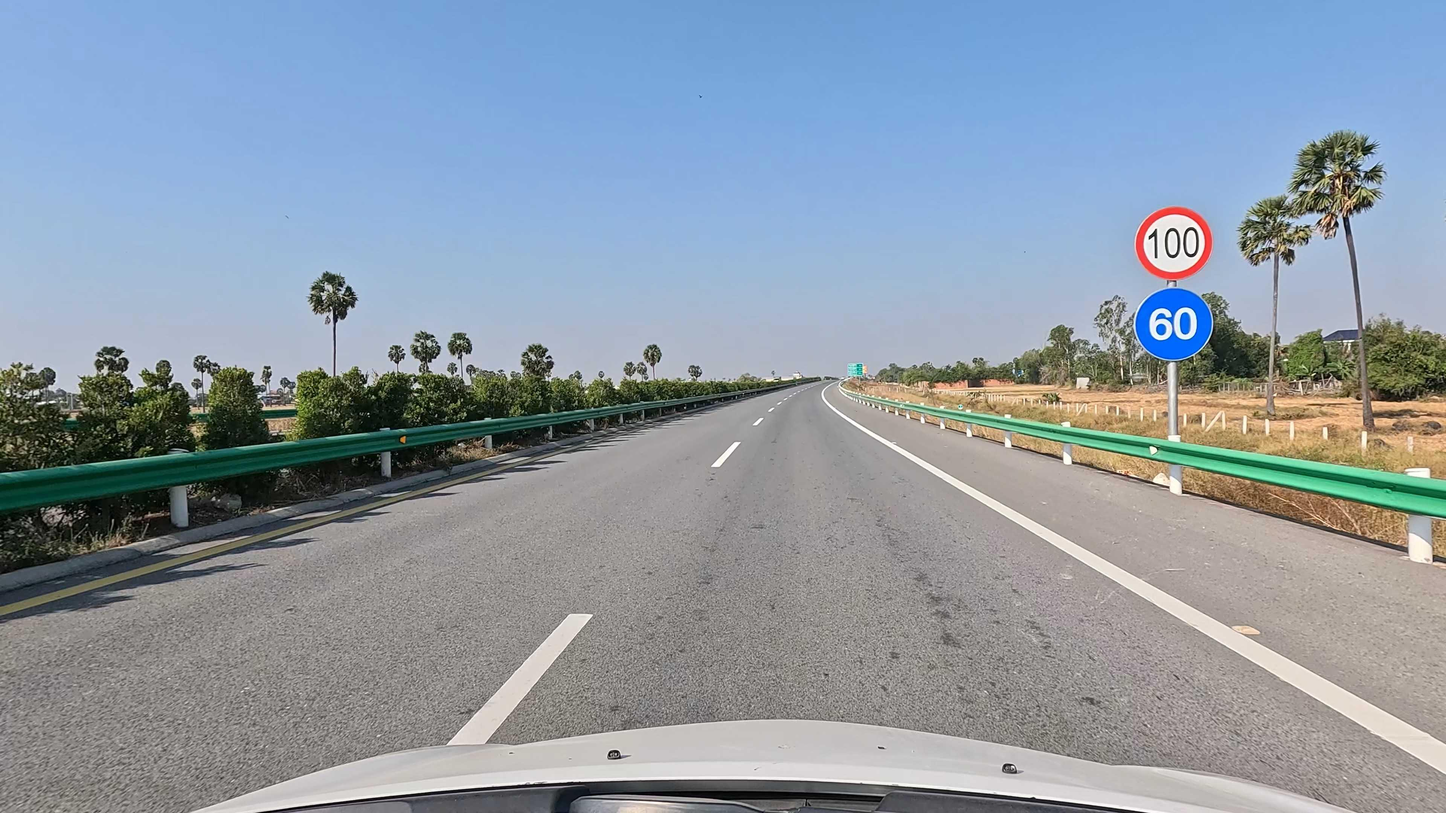speed_limit_100: (1133, 201, 1217, 281)
speed_limit_60: (1134, 286, 1214, 362)
